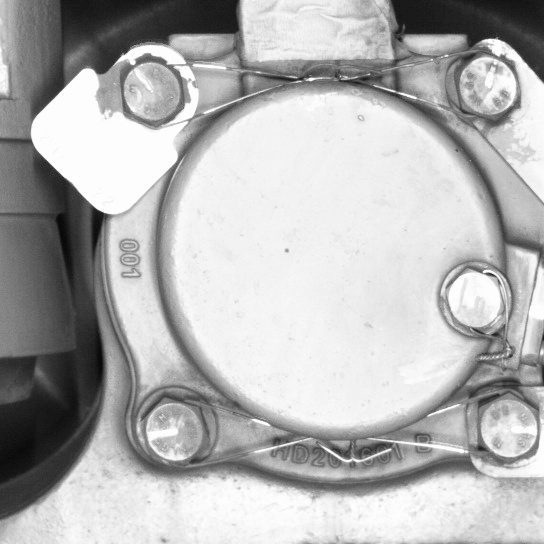IronWire: (116, 40, 529, 128), (127, 386, 542, 471)
Screw: (128, 386, 214, 474), (445, 44, 528, 127), (114, 49, 193, 135), (436, 257, 514, 342), (472, 385, 541, 469)
